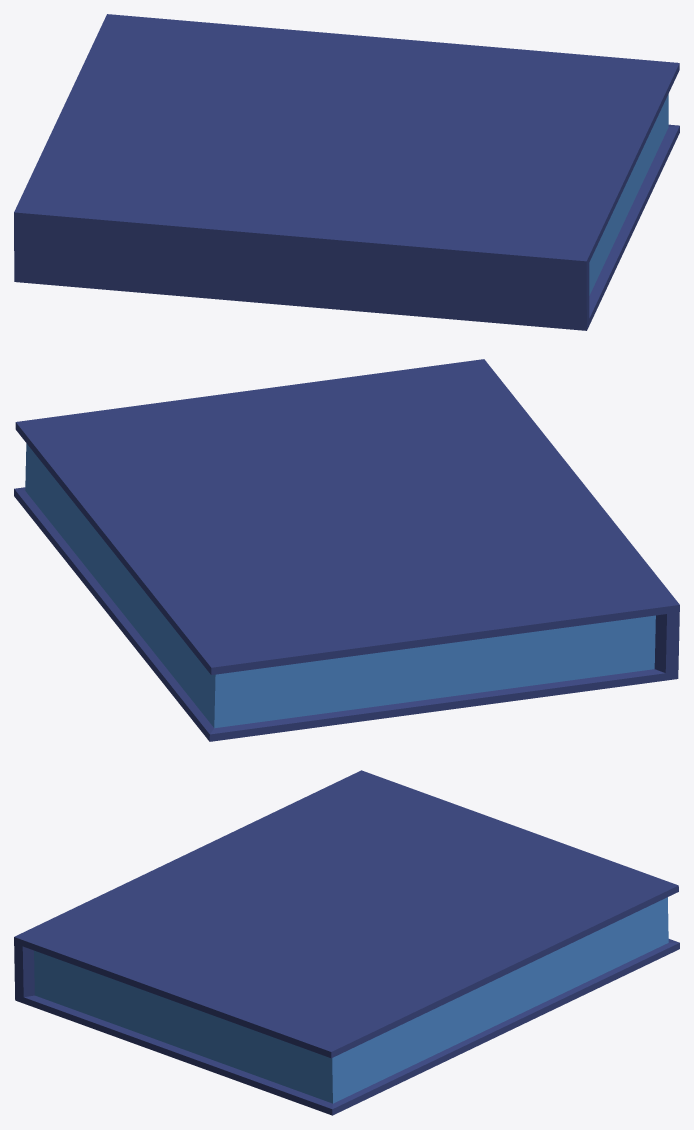
File: Livingroom2_Book_3.fbx
The picture shows the model from 3 angles, top to bottom: view 1: azimuth 30°, elevation 25°; view 2: azimuth 150°, elevation 25°; view 3: azimuth 270°, elevation 25°; orthographic projection. The views are drawn at different scales.
Visible parts, largest first — view 1: Livingroom2_Book_3; view 2: Livingroom2_Book_3; view 3: Livingroom2_Book_3.
Boxes of the visible parts, box(x1,y1,x2,y2) form: Livingroom2_Book_3: box(14, 14, 679, 330); Livingroom2_Book_3: box(14, 359, 679, 741); Livingroom2_Book_3: box(14, 770, 679, 1115).
Size of the model in its own units: 30.4 by 3.3 by 30.
